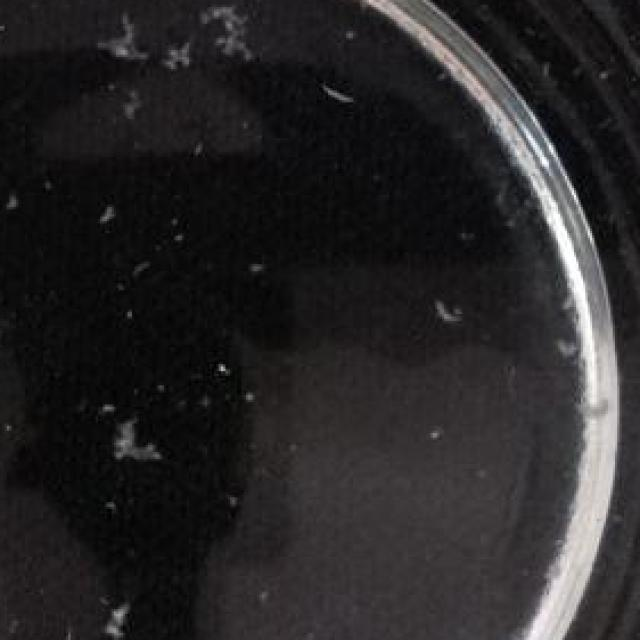Microplastic: (93, 404, 178, 478), (196, 0, 278, 69), (86, 15, 152, 84), (77, 578, 146, 640), (412, 268, 467, 342), (303, 62, 362, 128), (78, 186, 134, 236), (549, 317, 599, 371), (109, 85, 157, 128), (162, 43, 210, 78), (0, 180, 36, 223)
